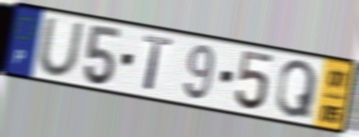5: (82, 22, 124, 87), (234, 49, 276, 113)
9: (182, 43, 216, 102)
Q: (275, 58, 320, 121)
T: (141, 32, 174, 95)
U: (36, 16, 86, 80)
